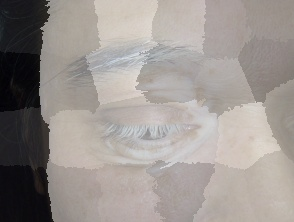vitiligo: (48, 18, 251, 222)
